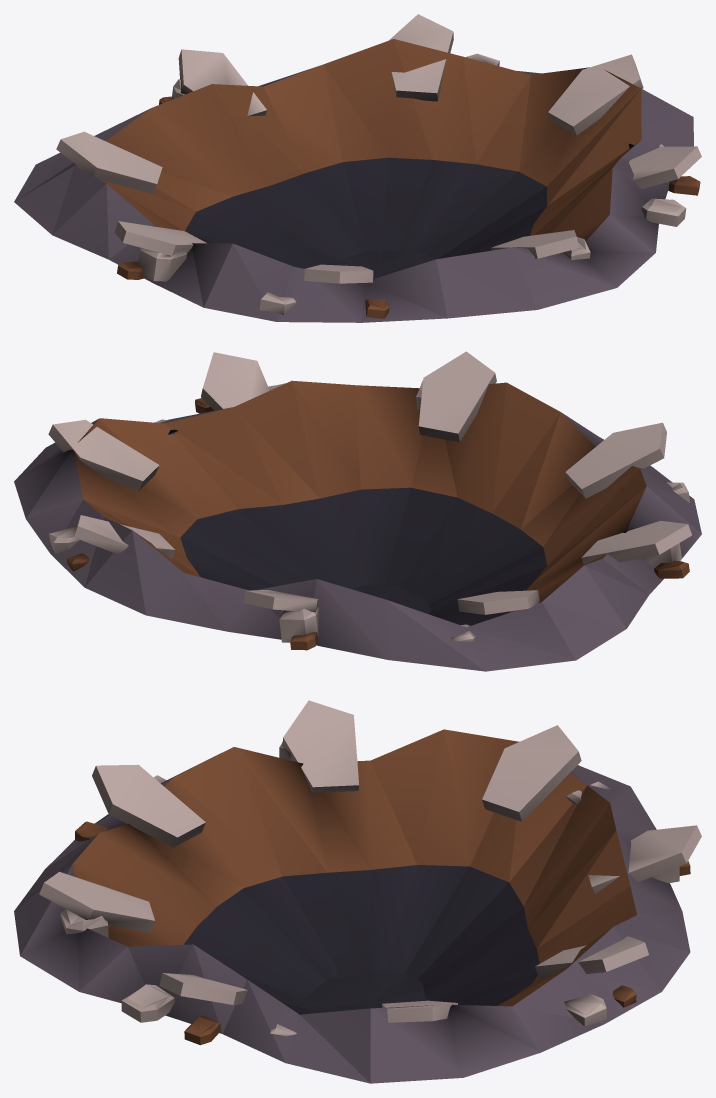
File: decay.crater.glb
3 views of the same model, one above another, from view 1: azimuth 30°, elevation 25°; view 2: azimuth 150°, elevation 25°; view 3: azimuth 270°, elevation 25° (orthographic). The views are drawn at different scales.
Visible parts, largest first — view 1: body; view 2: body; view 3: body.
Boxes of the visible parts, <box> form: body: <box>14,14,701,322</box>; body: <box>14,351,701,671</box>; body: <box>14,700,701,1083</box>.
Size of the model in its own units: 5.19 by 1.09 by 4.57.
